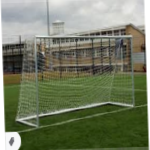goals: (15, 34, 134, 126)
